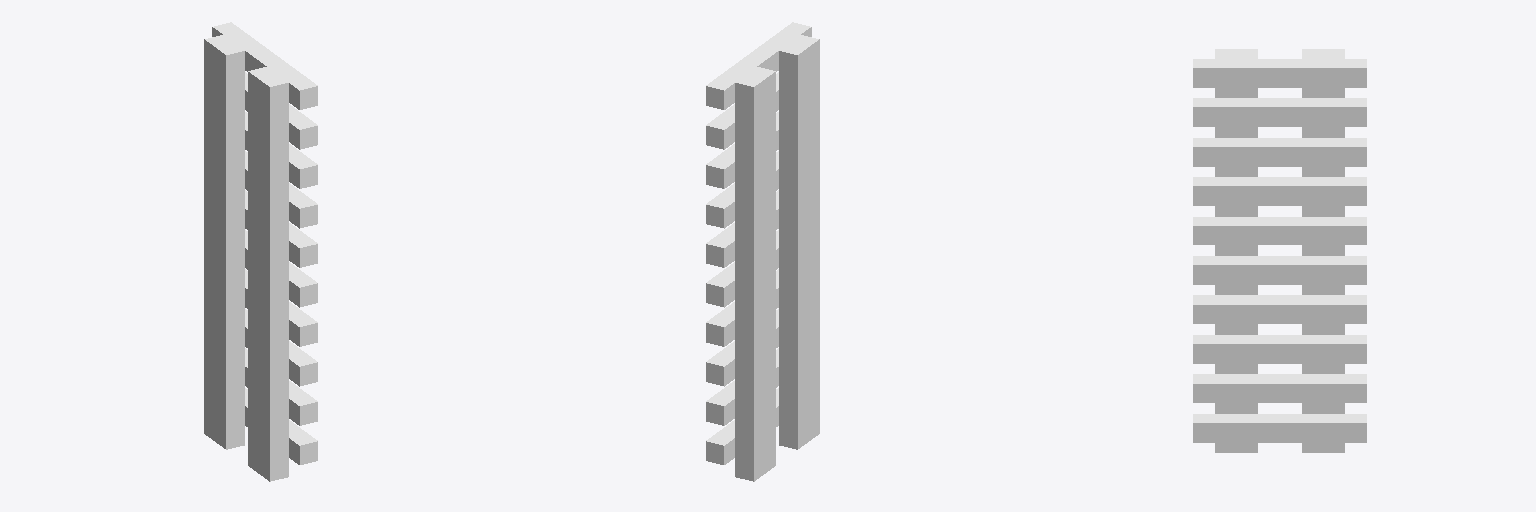
The model's file is assets01_copia03-0 1.obj.
3 renders of one model, left to right at view 1: azimuth 30°, elevation 25°; view 2: azimuth 150°, elevation 25°; view 3: azimuth 270°, elevation 25°, orthographic.
Parts seen in each view (by area): view 1: object 1; view 2: object 1; view 3: object 1.
Boxes of the visible parts, x1,y1,x2,y2 form: object 1: [204, 22, 317, 481]; object 1: [706, 22, 819, 481]; object 1: [1193, 49, 1366, 452].
Bounding box in the file's own units: 0.2 × 2 × 0.8.